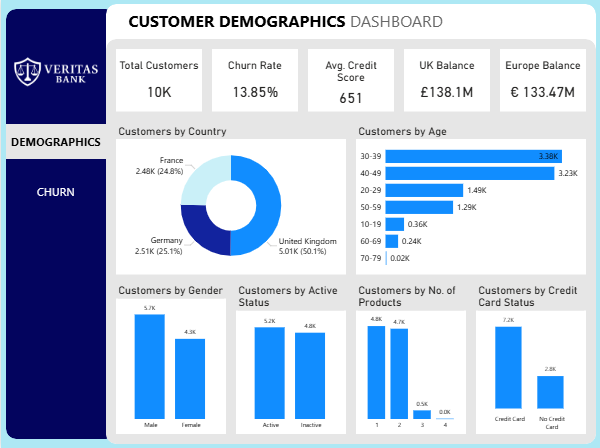

What the dashboard file says about the page in this screenshot:
{"tool":"powerbi","page":{"name":"1","canvas":[1200,900],"ordinal":0},"visuals":[{"type":"shape","box":[10,20,220,860],"z":0},{"type":"shape","box":[210,10,980,880],"z":1000},{"type":"shape","box":[210,80,980,810],"z":2000},{"type":"textbox","box":[250,20,650,50],"z":3000},{"type":"actionButton","box":[10,250,200,70],"z":4000},{"type":"actionButton","box":[10,350,200,70],"z":5000},{"type":"actionButton","box":[10,450,200,70],"z":6000},{"type":"card","title":"Total Customers","fields":{"Values":["Count(CustomerInfo csv.CustomerId)"]},"box":[230,100,172,125],"z":7000},{"type":"card","title":"Churn Rate","fields":{"Values":["AccountInfo.Churn Rate"]},"box":[422,100,172,125],"z":8000},{"type":"card","title":"Avg. Credit  Score","fields":{"Values":["Avg(AccountInfo csv.CreditScore)"]},"box":[614,100,172,125],"z":9000},{"type":"donutChart","fields":{"Category":["CustomerInfo csv.Country"],"Y":["CountNonNull(CustomerInfo csv.CustomerId)"]},"box":[230,245,460,305],"z":10000},{"type":"columnChart","fields":{"Category":["CustomerInfo csv.Gender"],"Y":["CountNonNull(CustomerInfo csv.CustomerId)"]},"box":[230,570,220,300],"z":11000},{"type":"barChart","fields":{"Category":["CustomerInfo csv.Age Group"],"Y":["CountNonNull(CustomerInfo csv.CustomerId)"]},"box":[710,245,460,305],"z":12000},{"type":"columnChart","fields":{"Category":["AccountInfo csv.Active Members"],"Y":["CountNonNull(CustomerInfo csv.CustomerId)"]},"box":[470,570,220,300],"z":13000},{"type":"columnChart","fields":{"Category":["AccountInfo csv.Credit Card"],"Y":["CountNonNull(AccountInfo csv.CustomerId)"]},"box":[950,570,220,300],"z":14000},{"type":"card","title":"UK Balance","fields":{"Values":["AccountInfo csv.UK"]},"box":[806,100,172,125],"z":15000},{"type":"card","title":"Europe Balance","fields":{"Values":["AccountInfo csv.Europe"]},"box":[998,100,172,125],"z":16000},{"type":"columnChart","fields":{"Category":["AccountInfo csv.Products"],"Y":["CountNonNull(CustomerInfo csv.CustomerId)"]},"box":[710,570,220,300],"z":17000},{"type":"image","box":[20,70,180,150],"z":18000}]}

Visuals, with their boxes in screenshot pixels (x1, y1, x2, y2), scaled from the page's 1200x900 canvas onto the 600x448 screenshot:
shape: 5/10/115/438
shape: 105/5/595/443
shape: 105/40/595/443
textbox: 125/10/450/35
actionButton: 5/124/105/159
actionButton: 5/174/105/209
actionButton: 5/224/105/259
"Total Customers" card: 115/50/201/112
"Churn Rate" card: 211/50/297/112
"Avg. Credit  Score" card: 307/50/393/112
donutChart - CustomerInfo csv.Country x CountNonNull(CustomerInfo csv.CustomerId): 115/122/345/274
columnChart - CustomerInfo csv.Gender x CountNonNull(CustomerInfo csv.CustomerId): 115/284/225/433
barChart - CustomerInfo csv.Age Group x CountNonNull(CustomerInfo csv.CustomerId): 355/122/585/274
columnChart - AccountInfo csv.Active Members x CountNonNull(CustomerInfo csv.CustomerId): 235/284/345/433
columnChart - AccountInfo csv.Credit Card x CountNonNull(AccountInfo csv.CustomerId): 475/284/585/433
"UK Balance" card: 403/50/489/112
"Europe Balance" card: 499/50/585/112
columnChart - AccountInfo csv.Products x CountNonNull(CustomerInfo csv.CustomerId): 355/284/465/433
image: 10/35/100/110
